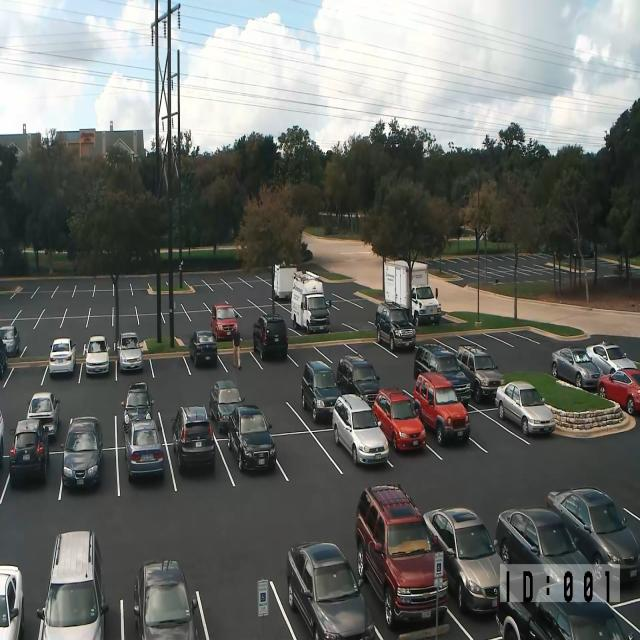car: (355, 483, 448, 629), (494, 506, 600, 604), (496, 576, 640, 640), (546, 486, 640, 584), (286, 540, 375, 640), (422, 506, 503, 615), (36, 530, 109, 640), (133, 558, 208, 640), (414, 372, 471, 446), (332, 393, 389, 466), (527, 600, 631, 639), (413, 342, 471, 408), (372, 387, 427, 452), (494, 381, 556, 436), (227, 404, 276, 472), (60, 415, 103, 489), (172, 405, 216, 473), (456, 344, 504, 402), (123, 416, 164, 481), (9, 418, 49, 482), (301, 360, 341, 423), (336, 354, 381, 407), (550, 346, 602, 391), (375, 301, 416, 351), (597, 368, 640, 415), (209, 379, 245, 433), (0, 564, 24, 639), (586, 340, 637, 375), (413, 341, 457, 381), (252, 313, 288, 361), (121, 381, 154, 433), (26, 391, 60, 439), (411, 284, 441, 326), (116, 331, 143, 372), (210, 302, 238, 341), (83, 335, 110, 375), (189, 330, 217, 368), (49, 337, 76, 376), (0, 324, 20, 356), (572, 242, 594, 258), (0, 338, 8, 378), (0, 410, 4, 468)
